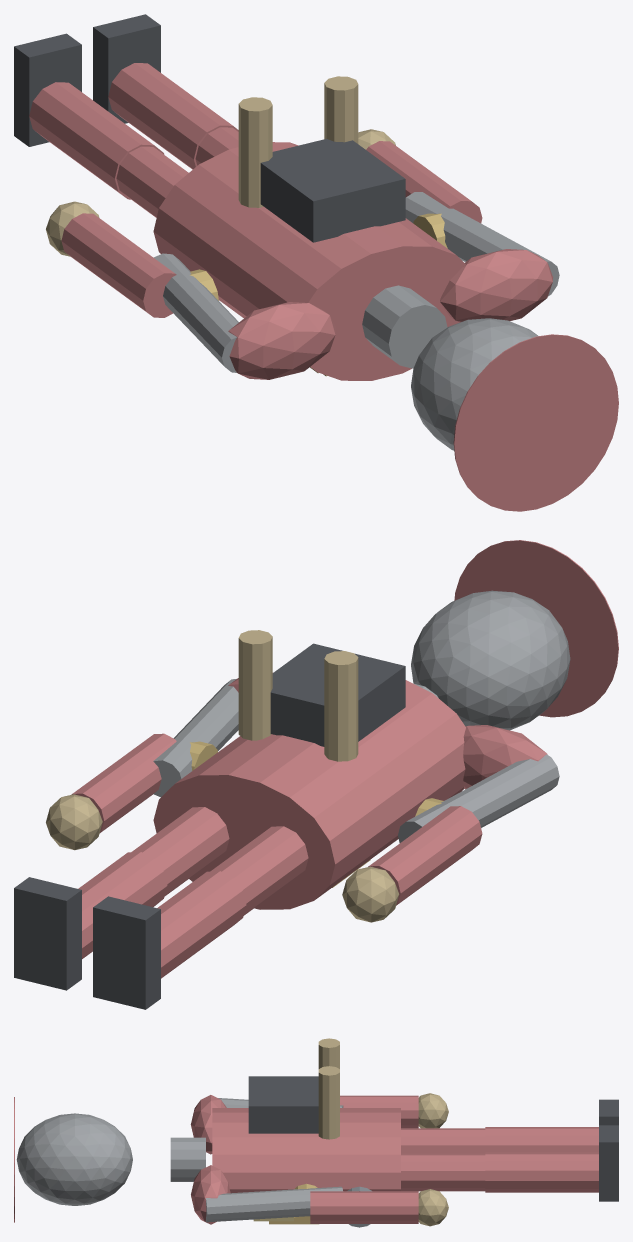
Rendered from SWN-040_vale_crixon.glb.
3 views of the same model, one above another, from view 1: azimuth 30°, elevation 25°; view 2: azimuth 150°, elevation 25°; view 3: azimuth 270°, elevation 25° (orthographic). The views are drawn at different scales.
Parts seen in each view (by area): view 1: body_spine, rank_halo_ring, back_thruster_pack, head, greave_-1, greave_1, shoulder_plate_-1, shoulder_plate_1, forearm_gauntlet_-1, neck, boot_-1, upper_arm_-1 (+8 smaller); view 2: body_spine, head, rank_halo_ring, back_thruster_pack, boot_-1, boot_1, greave_-1, forearm_gauntlet_-1, upper_arm_-1, thigh_-1, thigh_1, forearm_gauntlet_1 (+7 smaller); view 3: body_spine, head, greave_1, back_thruster_pack, forearm_gauntlet_1, thigh_1, upper_arm_1, greave_-1, thigh_-1, aether_thruster_1, boot_1, neck (+7 smaller).
Boxes of the visible parts, x1,y1,x2,y2 form: body_spine: (153,142,465,380); rank_halo_ring: (453,334,618,511); back_thruster_pack: (260,139,405,242); head: (411,318,538,450); greave_-1: (29,82,164,199); greave_1: (108,63,238,169); shoulder_plate_-1: (228,302,335,379); shoulder_plate_1: (440,249,553,322); forearm_gauntlet_-1: (61,213,176,317); neck: (362,285,447,368); boot_-1: (14,33,81,146); upper_arm_-1: (153,253,238,372); body_spine: (153,680,465,909); head: (411,590,570,730); rank_halo_ring: (454,540,618,717); back_thruster_pack: (270,643,405,746); boot_-1: (93,896,160,1009); boot_1: (14,877,81,990); greave_-1: (157,871,246,978); forearm_gauntlet_-1: (368,806,482,905); upper_arm_-1: (398,754,559,842); thigh_-1: (211,826,308,915); thigh_1: (131,807,229,896); forearm_gauntlet_1: (71,733,176,832); body_spine: (212,1108,400,1193); head: (16,1113,132,1205); greave_1: (485,1152,598,1192); back_thruster_pack: (248,1076,318,1133); forearm_gauntlet_1: (310,1191,418,1223); thigh_1: (401,1153,485,1191); upper_arm_1: (205,1186,342,1222); greave_-1: (485,1127,598,1152); thigh_-1: (401,1128,485,1153); aether_thruster_1: (318,1066,339,1139); boot_1: (599,1125,618,1201); neck: (170,1137,205,1181).
Size of the model in its own units: 1.05 by 0.7 by 2.4.
